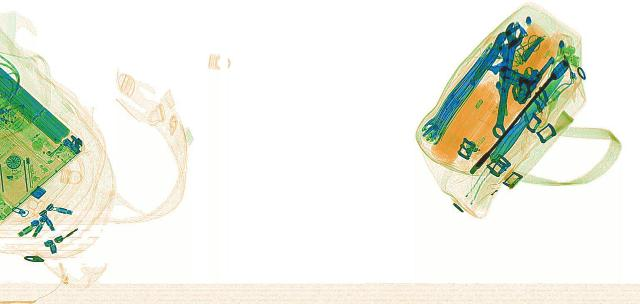Gun: (479, 50, 557, 103)
Wrench: (462, 58, 576, 172), (488, 20, 526, 137)
